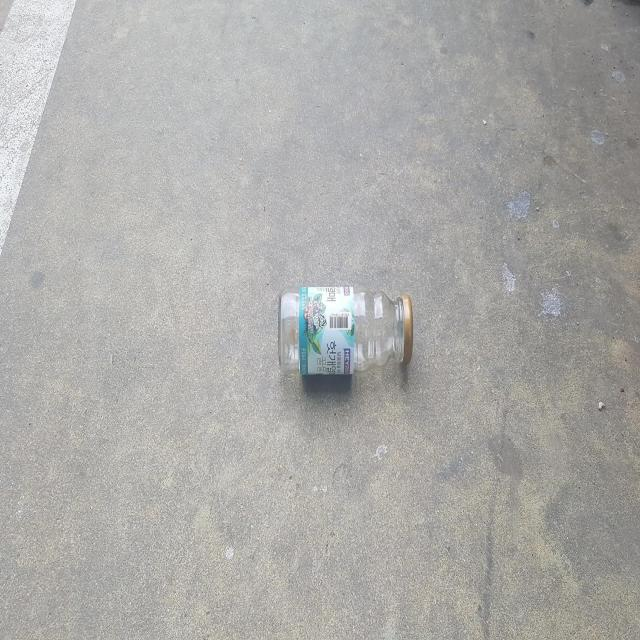glass: (278, 285, 413, 375)
